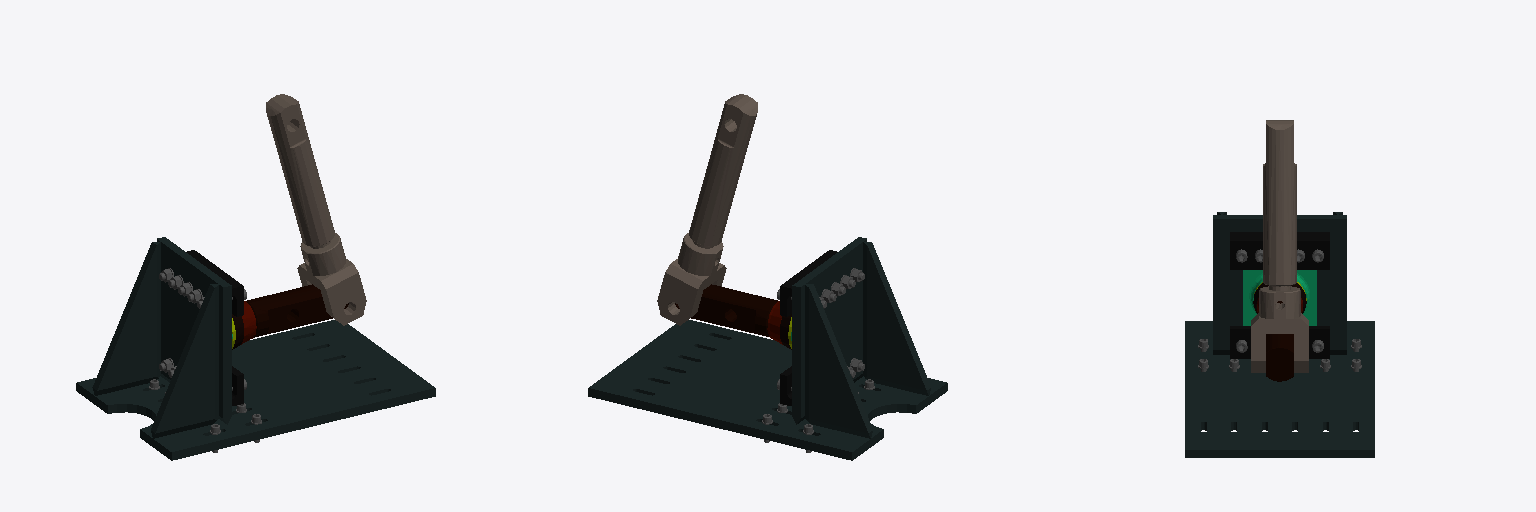
The model's file is csonk.obj.
3 renders of one model, left to right at view 1: azimuth 30°, elevation 25°; view 2: azimuth 150°, elevation 25°; view 3: azimuth 270°, elevation 25°, orthographic.
Visible parts, largest first — view 1: teljes; view 2: teljes; view 3: teljes.
Part boxes in pixels (x1,y1,x2,y2): teljes: (76, 94, 435, 460); teljes: (588, 94, 947, 460); teljes: (1185, 120, 1374, 457).
Size of the model in its own units: 12.2 by 13.14 by 7.62.